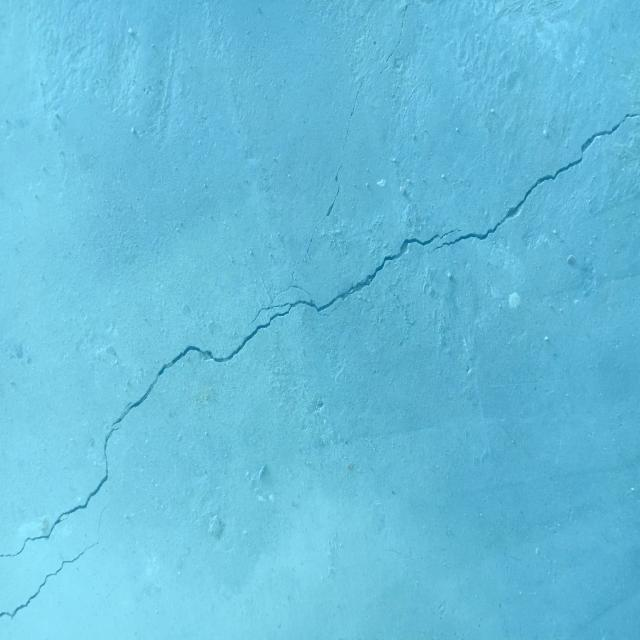crack: (0, 4, 461, 558), (427, 112, 640, 254), (0, 506, 107, 620)
